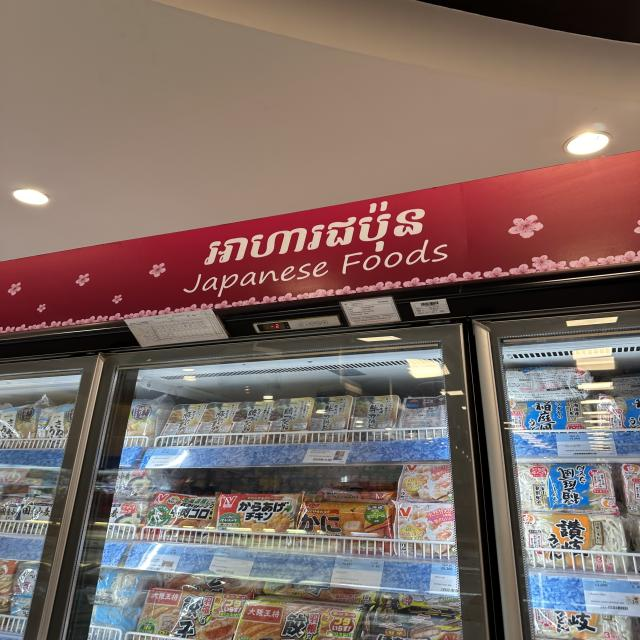Yolov11_80vkh: (192, 190, 439, 274)
